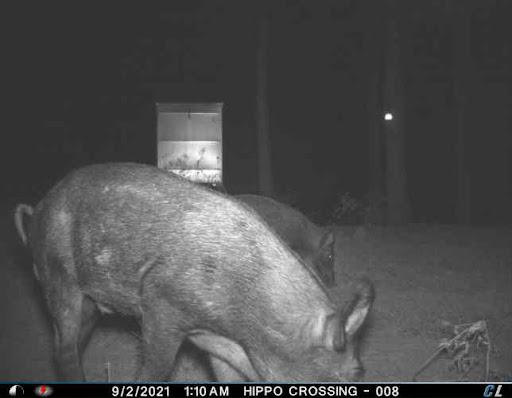Hog: (12, 156, 373, 384), (223, 190, 340, 295)
